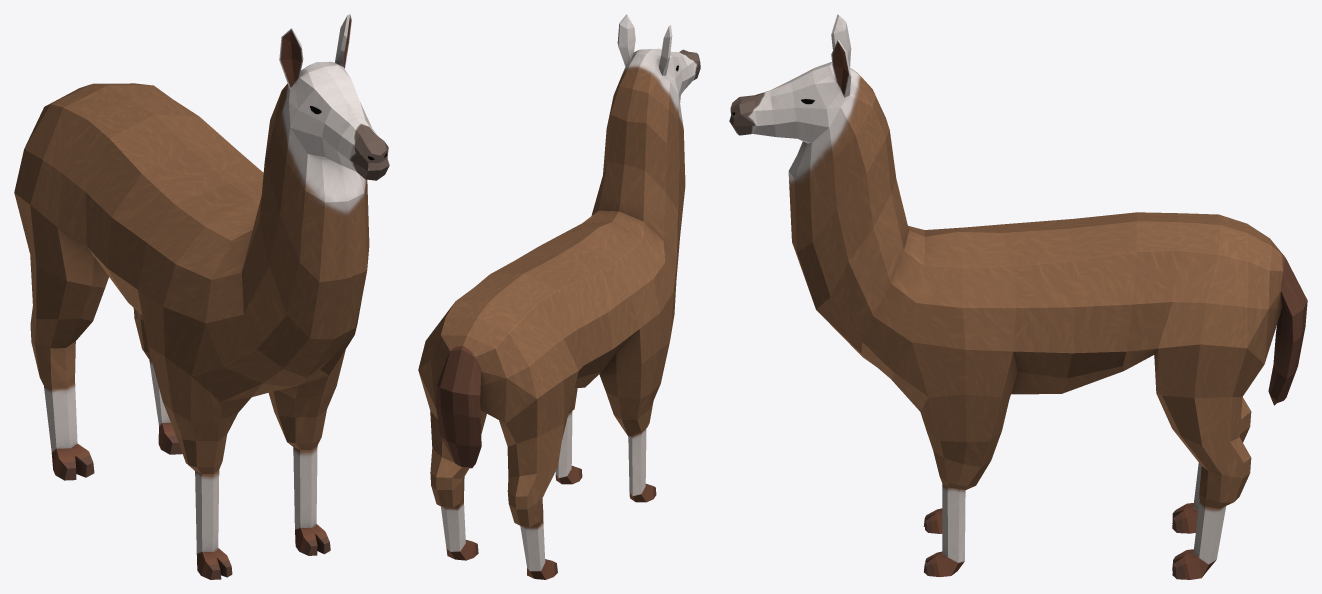
The model's file is 02bb5b89-958c-4bec-9265-88e41e458c67.glb.
3 renders of one model, left to right at view 1: azimuth 30°, elevation 25°; view 2: azimuth 150°, elevation 25°; view 3: azimuth 270°, elevation 25°, orthographic. The views are drawn at different scales.
Parts seen in each view (by area): view 1: Llama_Mesh; view 2: Llama_Mesh; view 3: Llama_Mesh.
Boxes of the visible parts, box(x1,y1,x2,y2) form: Llama_Mesh: box(14, 14, 389, 579); Llama_Mesh: box(418, 14, 700, 579); Llama_Mesh: box(729, 14, 1307, 579).
Size of the model in its own units: 3 by 9.36 by 9.38.
Materials: 1 (1 with a texture image).
